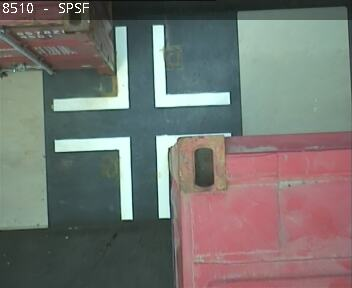groundmarker_1: (52, 24, 231, 112), (55, 131, 230, 219)
